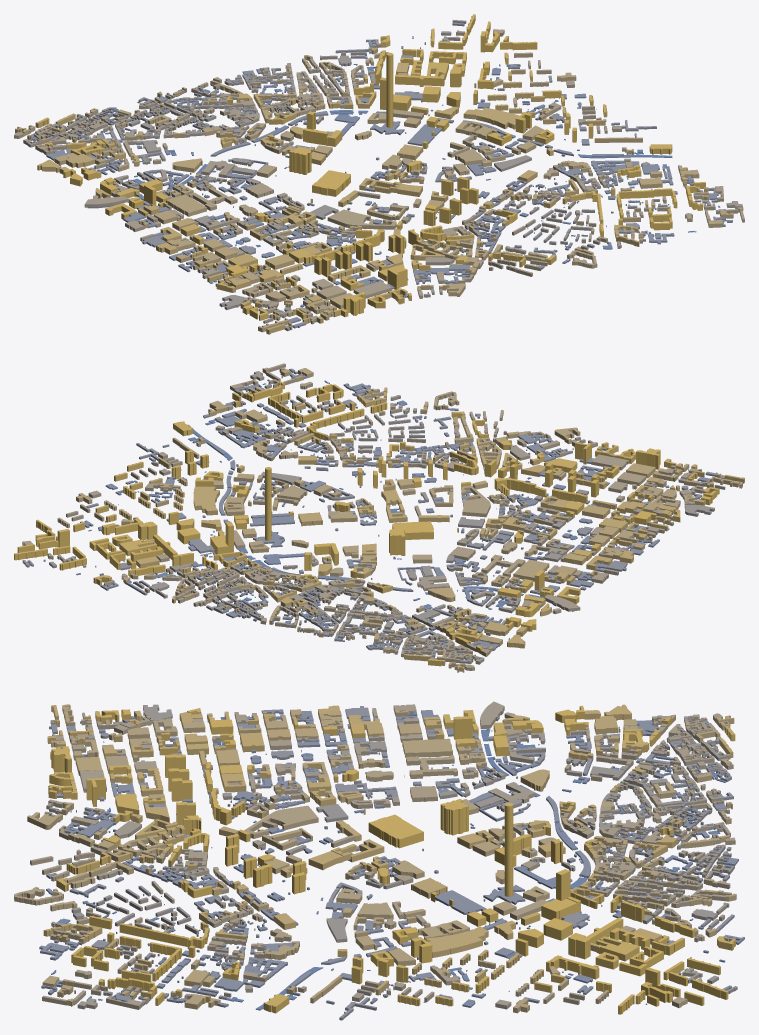
File: buildings.glb
The picture shows the model from 3 angles, top to bottom: view 1: azimuth 30°, elevation 25°; view 2: azimuth 150°, elevation 25°; view 3: azimuth 270°, elevation 25°; orthographic projection. The views are drawn at different scales.
Visible parts, largest first — view 1: buildings; view 2: buildings; view 3: buildings.
Part boxes in pixels (left/top/right/bottom): buildings: left=14, top=14, right=744, bottom=334; buildings: left=14, top=363, right=744, bottom=672; buildings: left=14, top=701, right=744, bottom=1020.
Size of the model in its own units: 2642 by 382 by 2600.
